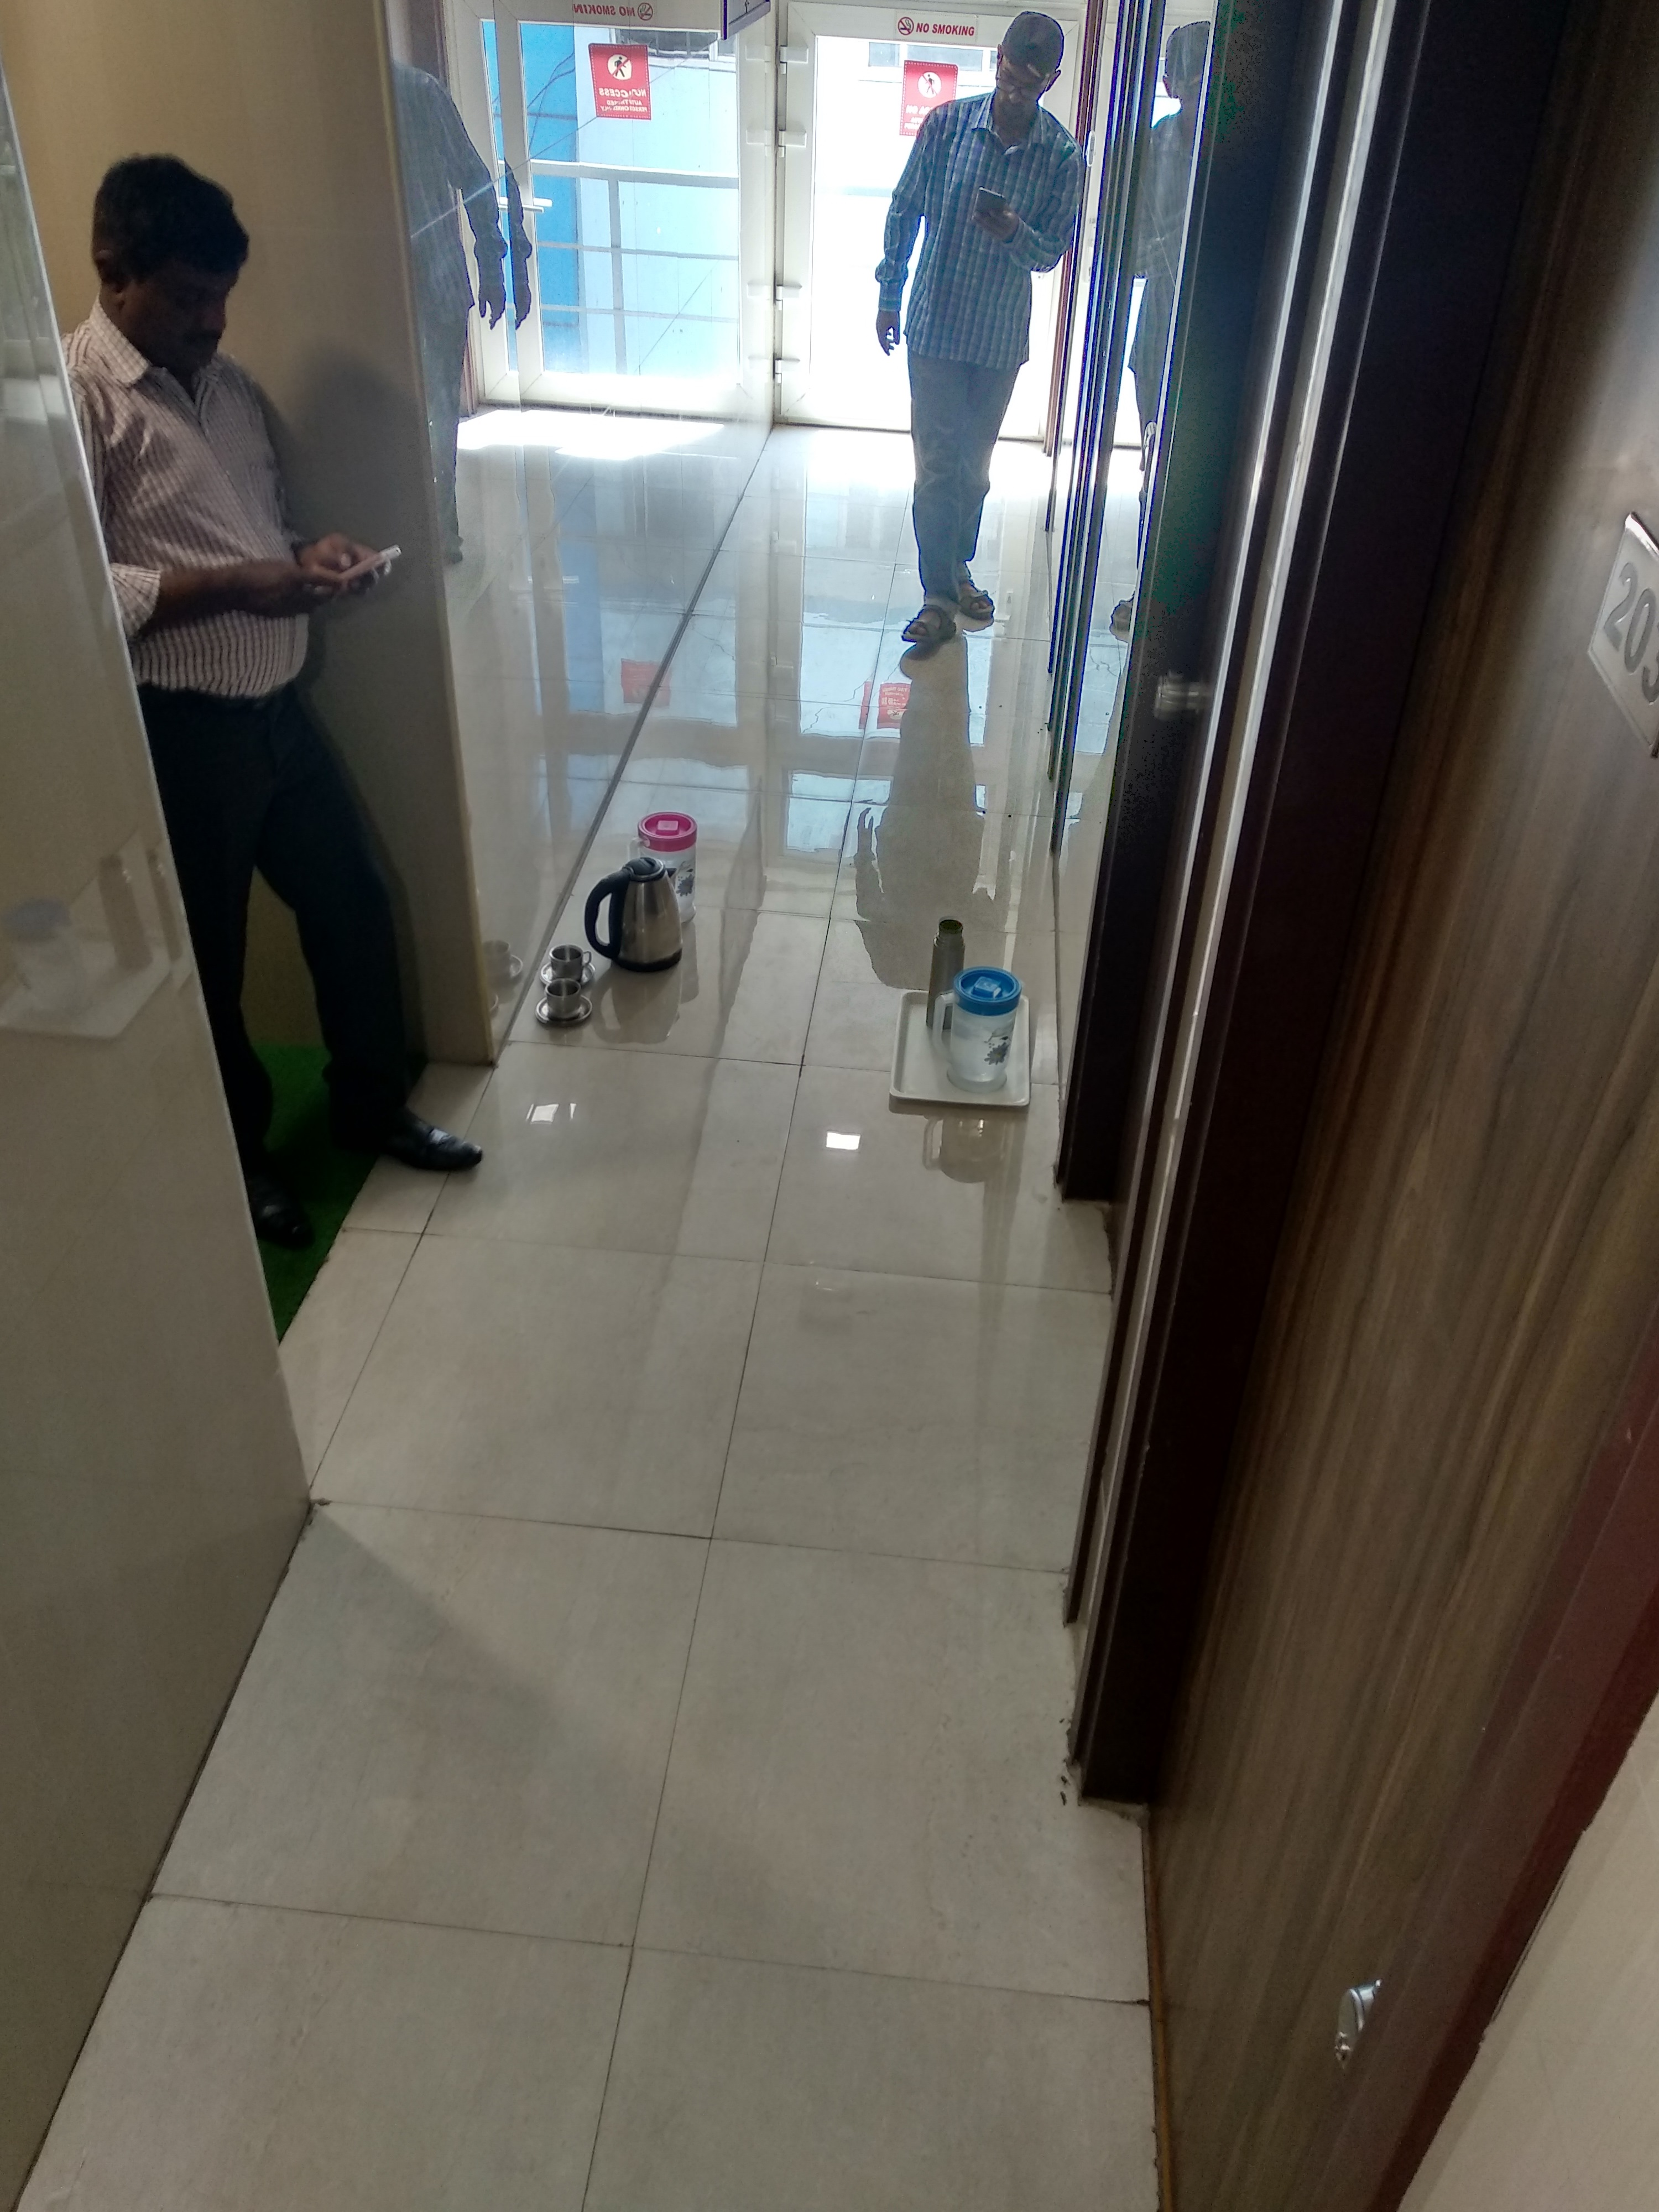CUP: (532, 974, 596, 1029), (537, 937, 598, 981)
FLASK: (931, 916, 969, 1031)
JUG: (587, 853, 695, 975), (932, 967, 1025, 1096), (627, 813, 702, 852)
